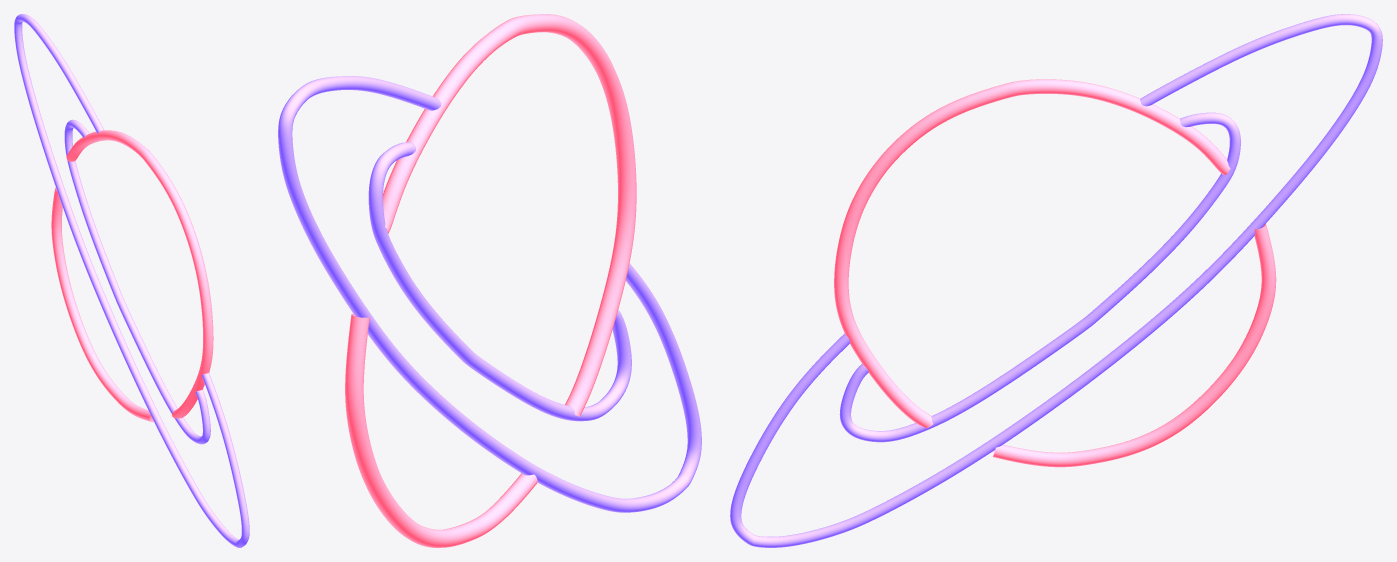
File: planet_neon_sign__neon_sign_for_room.glb
3 views of the same model, side by side, from view 1: azimuth 30°, elevation 25°; view 2: azimuth 150°, elevation 25°; view 3: azimuth 270°, elevation 25° (orthographic). The views are drawn at different scales.
Visible parts, largest first — view 1: NurbsPath.002_0, NurbsPath.001_1; view 2: NurbsPath.002_0, NurbsPath.001_1; view 3: NurbsPath.002_0, NurbsPath.001_1.
Boxes of the visible parts, x1,y1,x2,y2 form: NurbsPath.002_0: (14,14,249,547); NurbsPath.001_1: (51,130,213,422); NurbsPath.002_0: (278,76,701,512); NurbsPath.001_1: (345,14,636,547); NurbsPath.002_0: (730,14,1382,547); NurbsPath.001_1: (834,79,1276,467).
Bounding box in the file's own units: 0.26 × 10.45 × 11.6.
